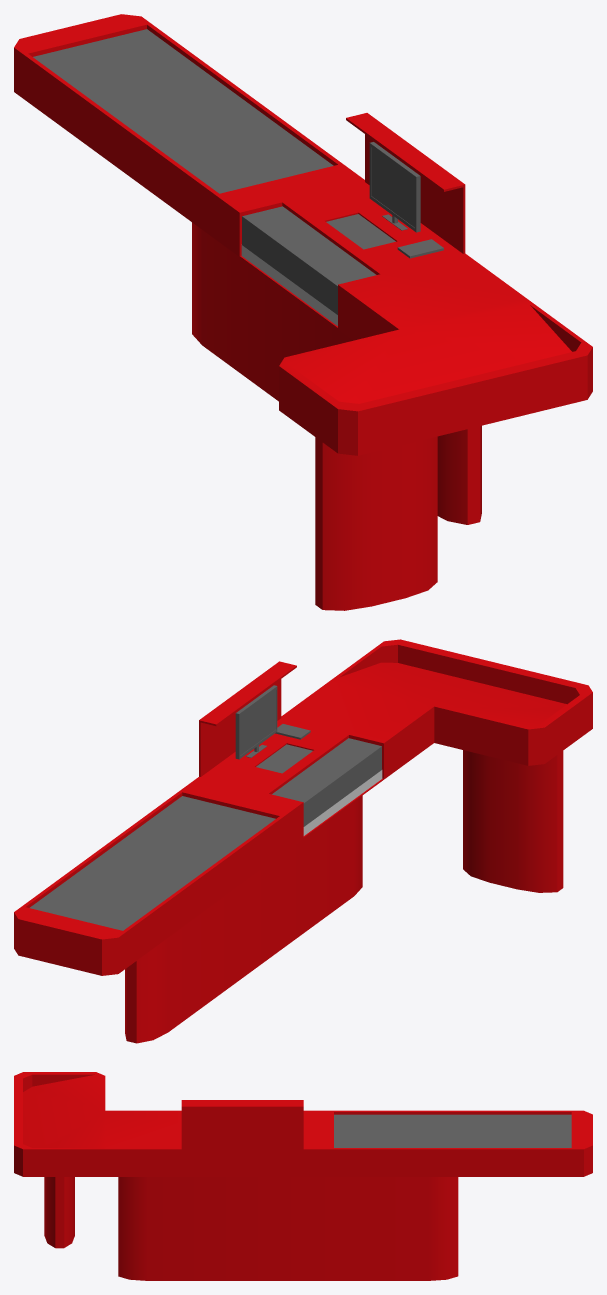
Rendered from Cash register LPM (2х4).fbx.
3 renders of one model, top to bottom at view 1: azimuth 30°, elevation 25°; view 2: azimuth 150°, elevation 25°; view 3: azimuth 270°, elevation 25°, orthographic. The views are drawn at different scales.
Visible parts, largest first — view 1: CashRT, Сover, Cash_register_screen, Cash_Off; view 2: CashRT, Сover, Cash_register_screen, Cash_Off; view 3: CashRT.
Boxes of the visible parts, <box> form: CashRT: <box>14,14,592,610</box>; Сover: <box>242,206,376,314</box>; Cash_register_screen: <box>369,142,420,232</box>; Cash_Off: <box>241,245,337,325</box>; CashRT: <box>14,639,592,1043</box>; Сover: <box>272,738,381,826</box>; Cash_register_screen: <box>235,685,277,759</box>; Cash_Off: <box>303,770,382,835</box>; CashRT: <box>14,1072,592,1280</box>.
Bounding box in the file's own units: 120 × 131 × 380.
